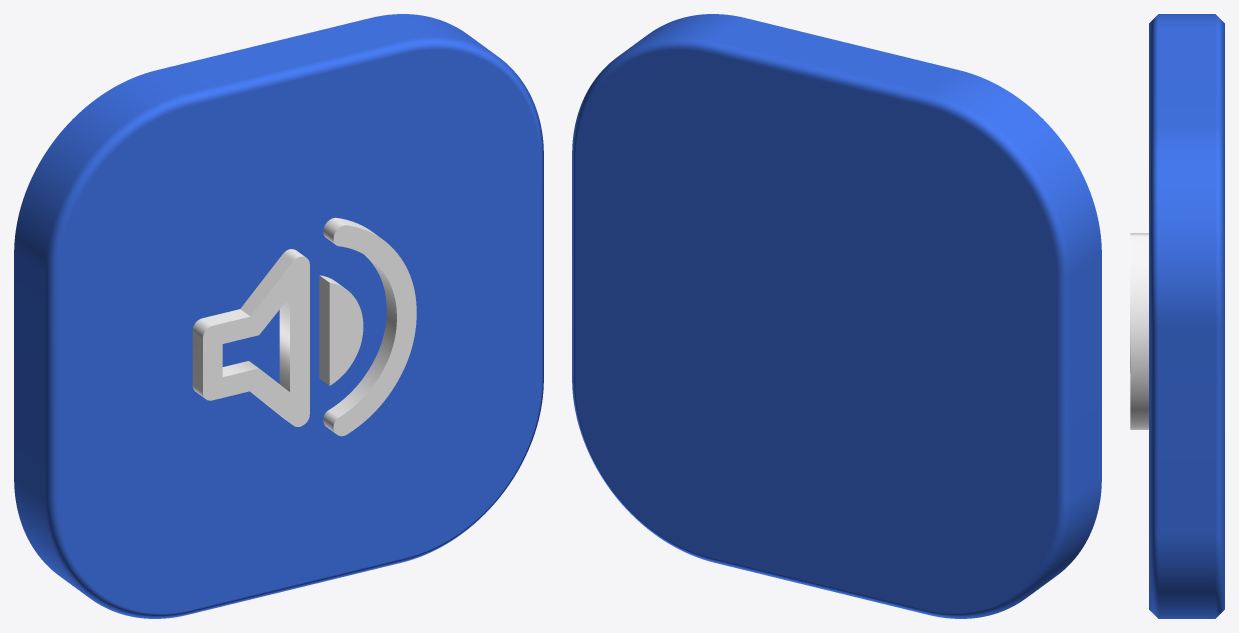
Rendered from audio_active.glb.
3 renders of one model, left to right at view 1: azimuth 30°, elevation 25°; view 2: azimuth 150°, elevation 25°; view 3: azimuth 270°, elevation 25°, orthographic. The views are drawn at different scales.
Parts seen in each view (by area): view 1: bg, Shape 0.001, Shape 0, Shape 0.002; view 2: bg; view 3: bg, Shape 0.
Boxes of the visible parts, bbox=[...] form: bg: bbox=[14, 14, 543, 618]; Shape 0.001: bbox=[192, 249, 309, 426]; Shape 0: bbox=[323, 217, 416, 436]; Shape 0.002: bbox=[319, 275, 363, 385]; bg: bbox=[572, 14, 1101, 618]; bg: bbox=[1149, 14, 1224, 618]; Shape 0: bbox=[1130, 234, 1148, 429].
Bounding box in the file's own units: 0.56 × 0.56 × 0.1001.
